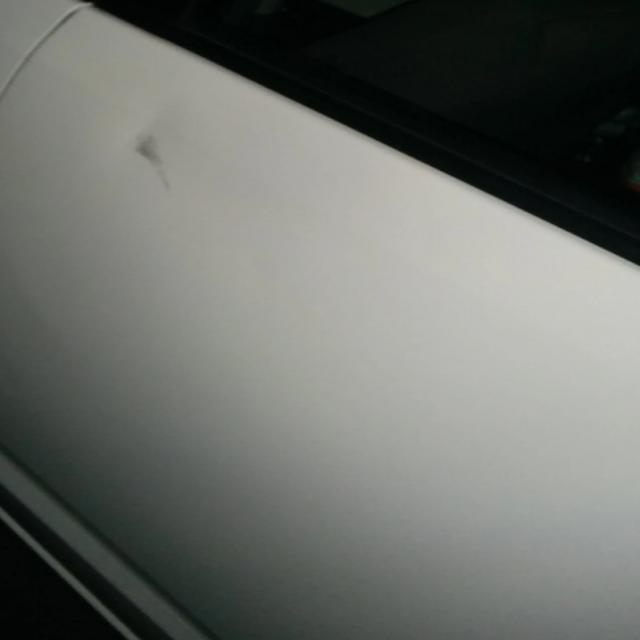dents: (114, 108, 246, 223)
